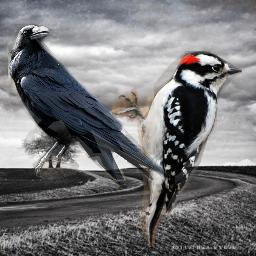Crow: (8, 24, 171, 180)
Woodpecker: (112, 51, 242, 247)
